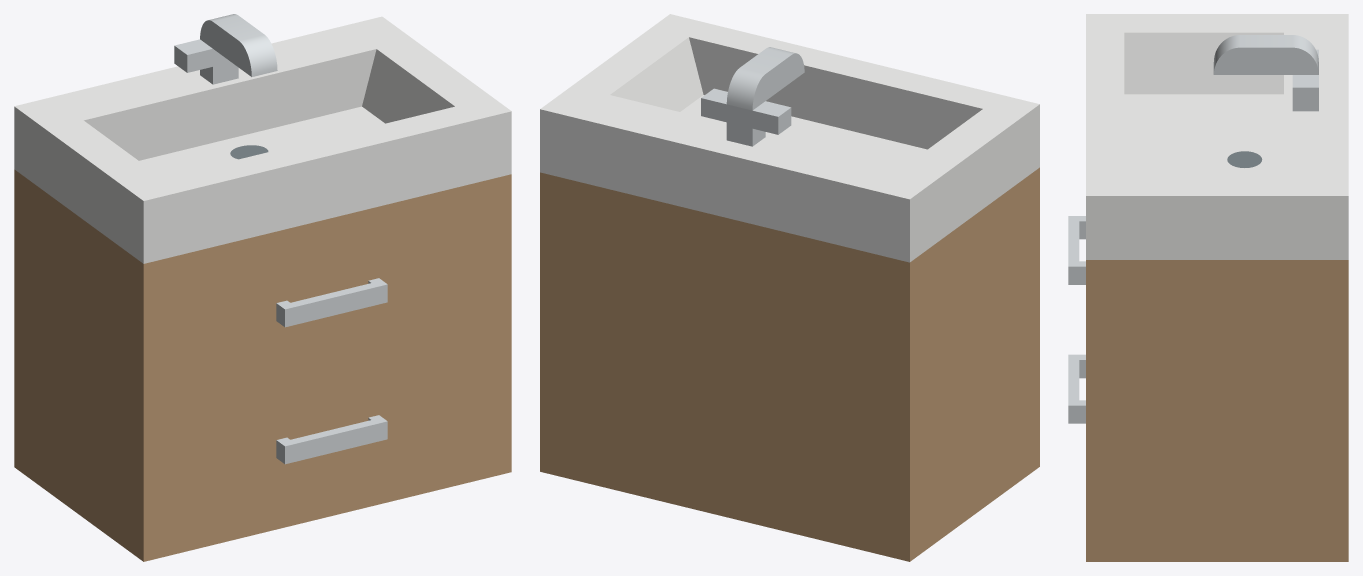
The model's file is basin-vanity.glb.
3 views of the same model, side by side, from view 1: azimuth 30°, elevation 25°; view 2: azimuth 150°, elevation 25°; view 3: azimuth 270°, elevation 25° (orthographic).
Parts seen in each view (by area): view 1: basin-vanity; view 2: basin-vanity; view 3: basin-vanity.
Part boxes in pixels (x1,y1,x2,y2): basin-vanity: (14, 14, 511, 561); basin-vanity: (540, 14, 1039, 561); basin-vanity: (1068, 14, 1348, 561).
Bounding box in the file's own units: 0.8 × 0.88 × 0.52.
